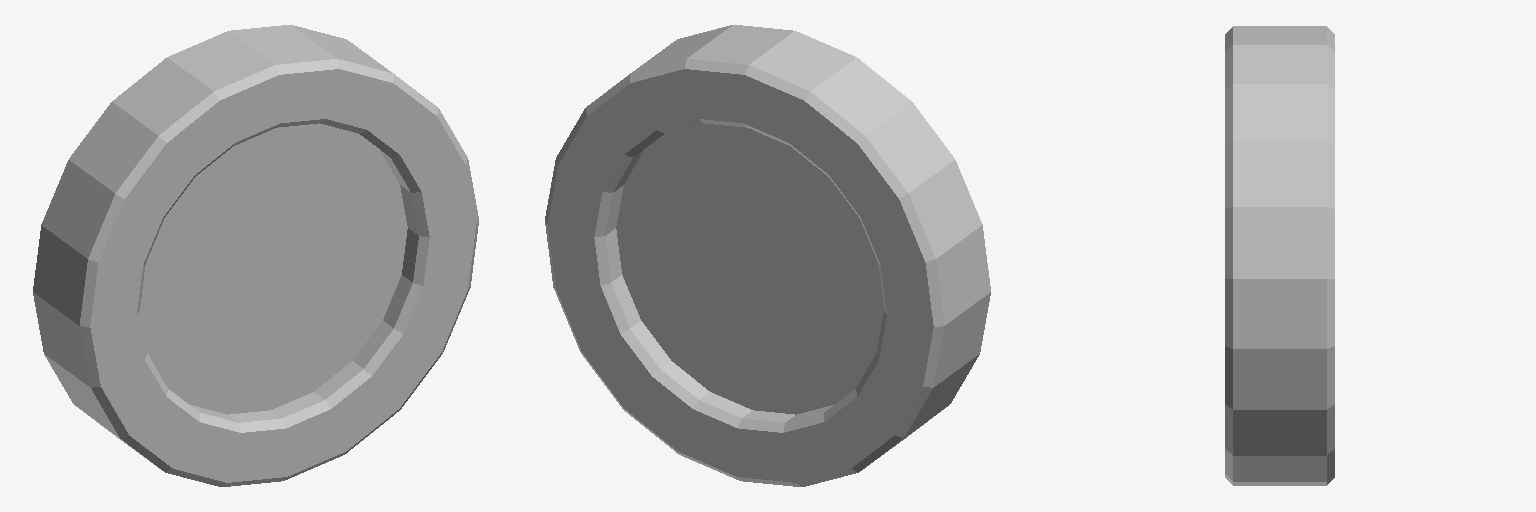
Rendered from Moneda.obj.
3 views of the same model, side by side, from view 1: azimuth 30°, elevation 25°; view 2: azimuth 150°, elevation 25°; view 3: azimuth 270°, elevation 25° (orthographic).
Visible parts, largest first — view 1: Coin; view 2: Coin; view 3: Coin.
Part boxes in pixels (left/top/right/bottom): Coin: left=33, top=25, right=478, bottom=486; Coin: left=545, top=25, right=990, bottom=486; Coin: left=1225, top=26, right=1334, bottom=485.
Bounding box in the file's own units: 0.7998 × 0.7998 × 0.1891.